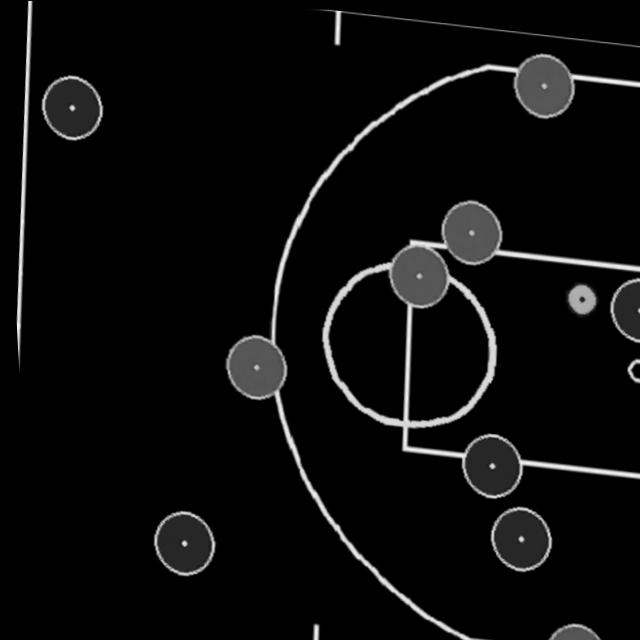Basketball: (558, 277, 597, 317)
Team_A: (142, 506, 213, 578), (451, 427, 520, 499), (478, 501, 548, 571), (34, 72, 104, 142), (601, 271, 640, 340)
Team_B: (507, 47, 577, 118), (433, 193, 501, 264), (217, 330, 285, 401), (380, 239, 448, 308), (534, 618, 601, 640)
